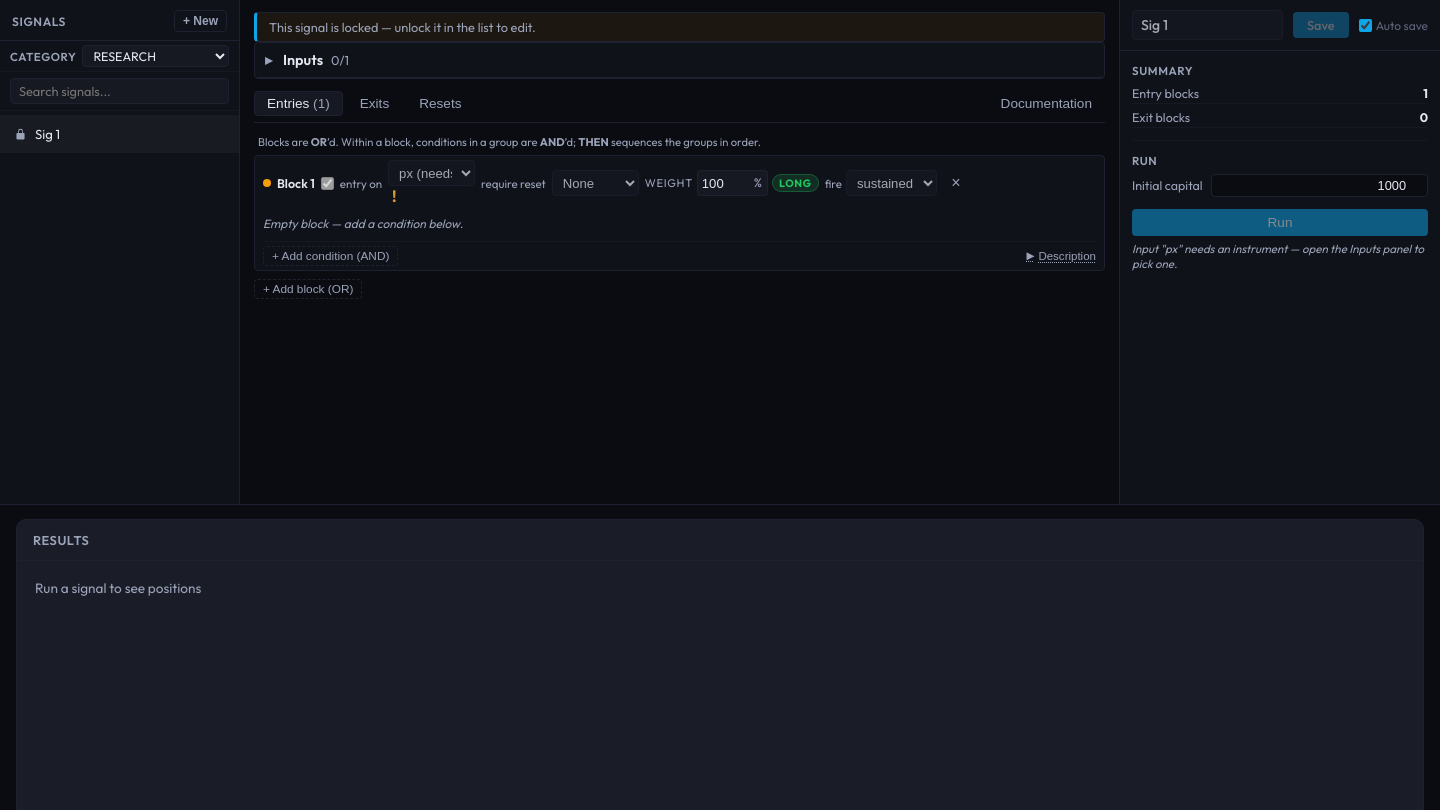
Test: SignalsPage — locked signal stays VIEWABLE and NAVIGABLE › keeps the section tab buttons (Exits/Resets) usable (NOT disabled) while locked
The width and height of the screenshot is (1440, 810).
Expected: the message "This signal is locked — unlock it in the list to edit." is shown, top-left (254, 12), bottom-right (1105, 42)
Expected: the element with test id "block-0" is shown, top-left (254, 155), bottom-right (1105, 271)
// Switching tabs shows the target section's content.
Step 1. Click the tab with test id "section-tab-exits" → {"x": 374, "y": 104}, box top-left (347, 91), bottom-right (402, 116)
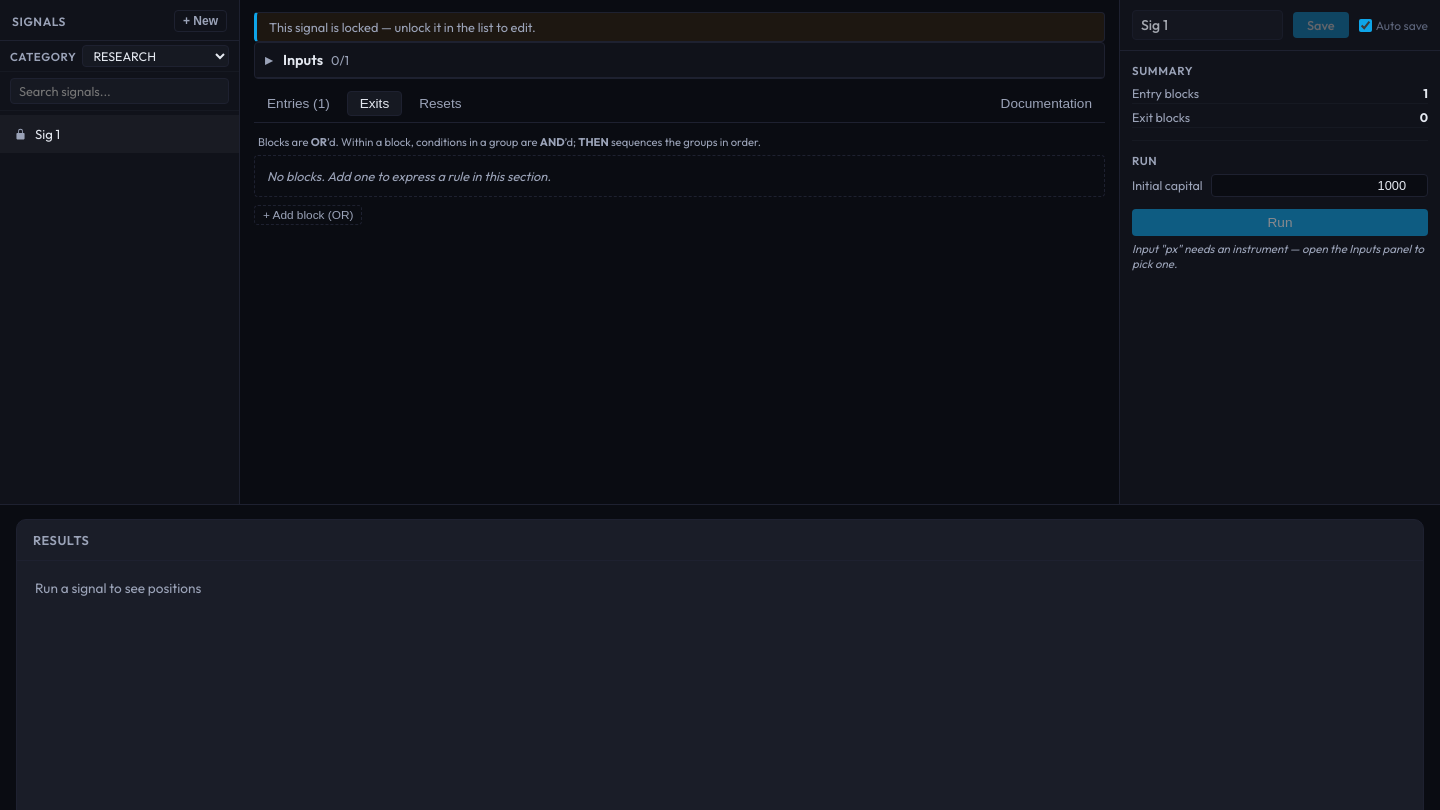
Expected: the text "No blocks. Add one to express a rule in this section." is shown, top-left (254, 155), bottom-right (1105, 197)
